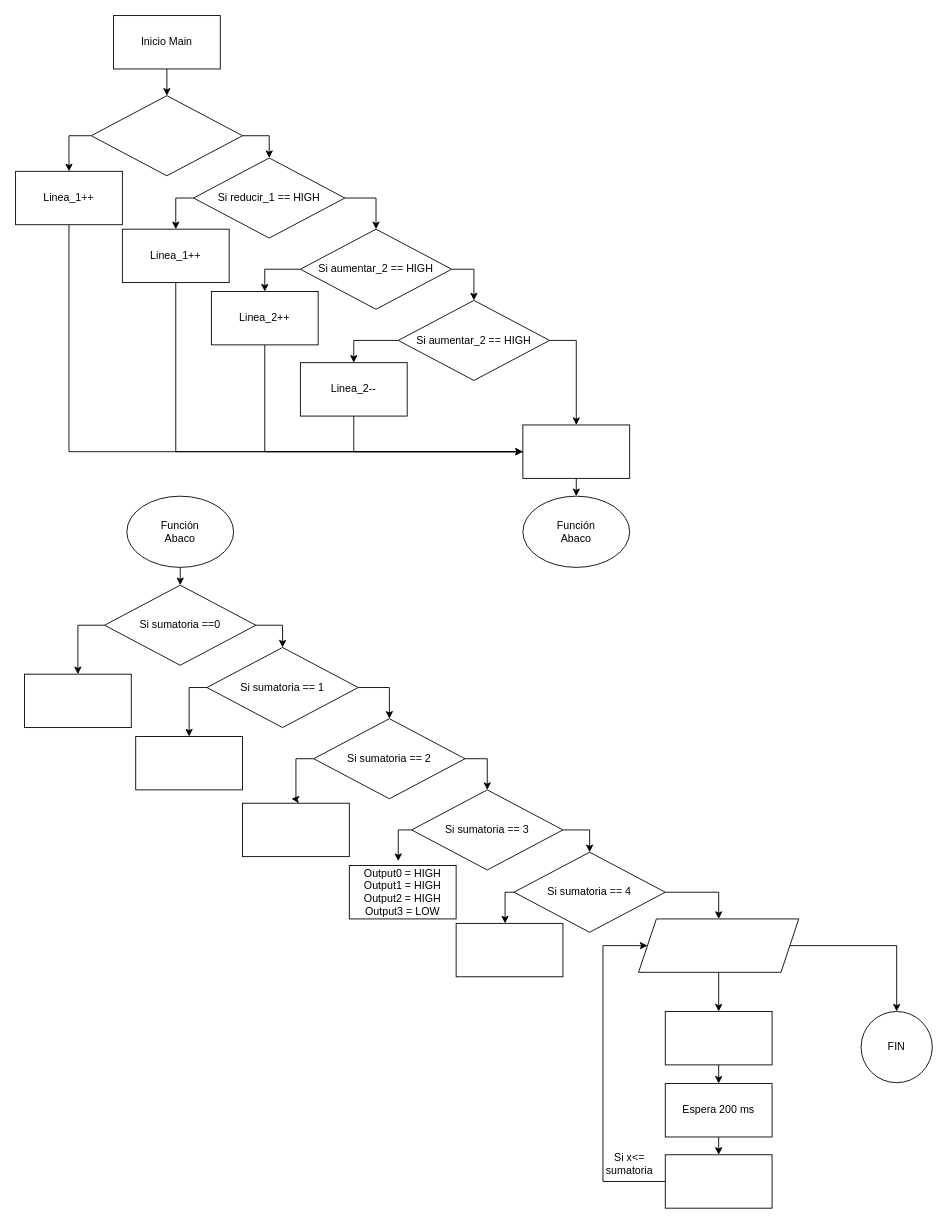
Some shapes in this 948 by 1224 pixel diagram are drawn without their labels. Here are the shapes that lost their labels. From the top down, the centre of each, then its label:
(166,135): Si aumentar_1 == HIGH
(576,451): sumatoria = Linea1 + Linea 2
(77,700): Output0 = LOW Output1 = LOW Output2 = LOW Output3 = LOW
(189,763): Output0 = HIGH Output1 = LOW Output2 = LOW Output3 = LOW
(295,829): Output0 = HIGH Output1 = HIGH Output2 = LOW Output3 = LOW
(509,949): Output0 = HIGH Output1 = HIGH Output2 = HIGH Output3 = HIGH
(718,945): Desde x = 0 hasta sumatoria
(718,1038): Led = HIGH
(718,1181): Led = LOW
